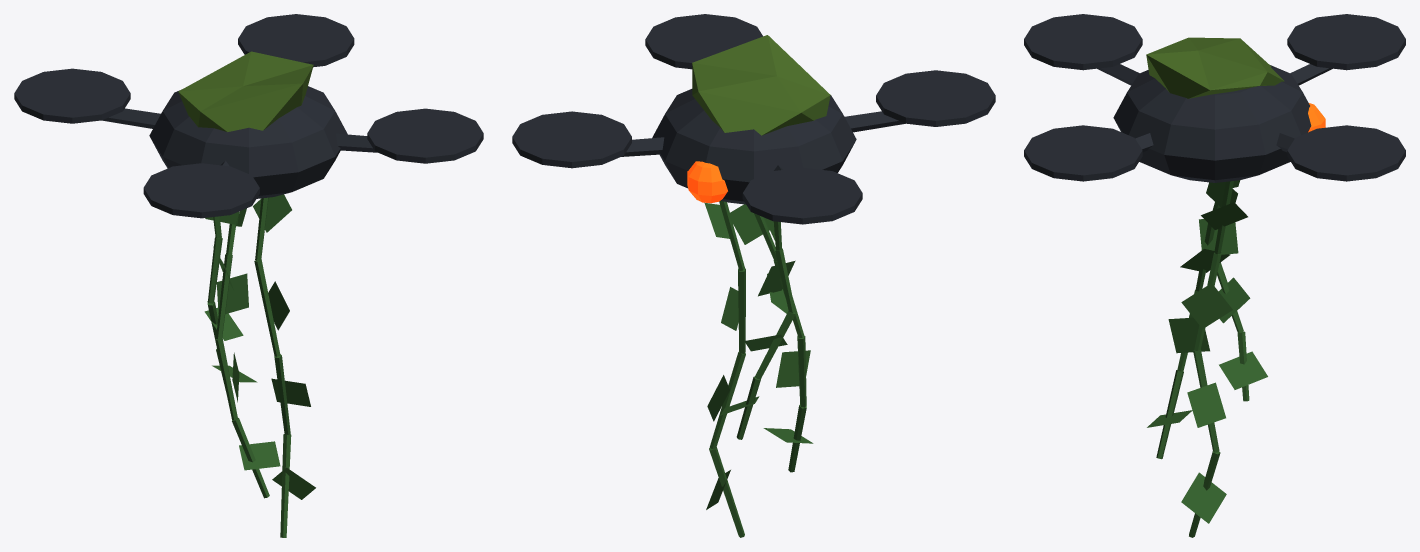
File: drone.glb
3 renders of one model, left to right at view 1: azimuth 30°, elevation 25°; view 2: azimuth 150°, elevation 25°; view 3: azimuth 270°, elevation 25°, orthographic. The views are drawn at different scales.
Visible parts, largest first — view 1: Drone; view 2: Drone; view 3: Drone.
Boxes of the visible parts, <box> form: Drone: <box>14,14,483,537</box>; Drone: <box>512,14,995,537</box>; Drone: <box>1024,14,1405,537</box>.
Bounding box in the file's own units: 2.26 × 3.13 × 2.26.
